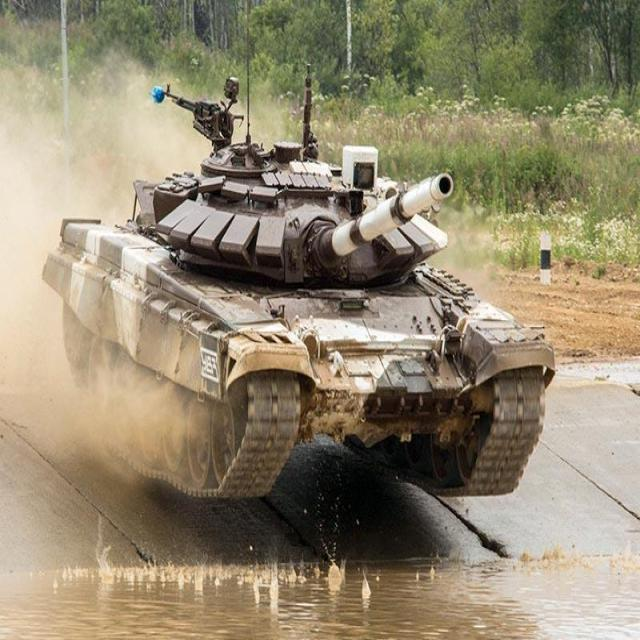MIL_MBT: (31, 84, 628, 585)
